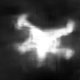plane: (10, 11, 78, 67)
